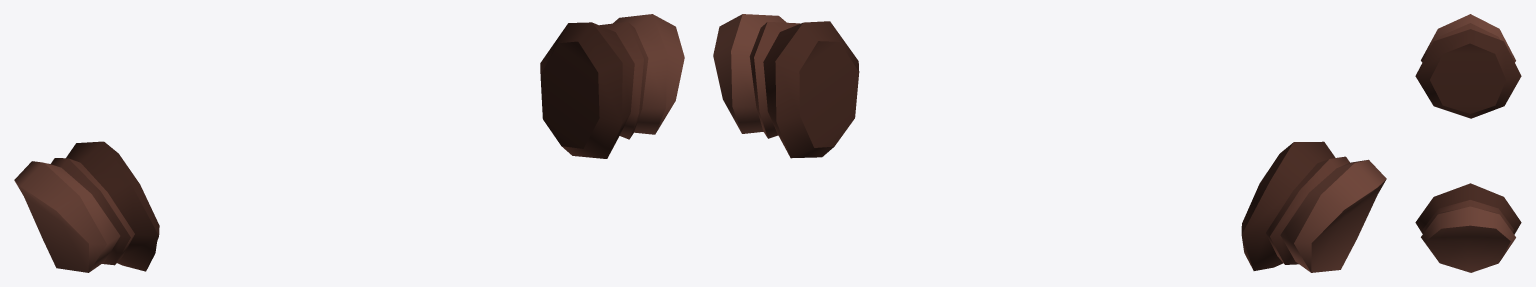
The model's file is Glove_33.fbx.
The picture shows the model from 3 angles, left to right: view 1: azimuth 30°, elevation 25°; view 2: azimuth 150°, elevation 25°; view 3: azimuth 270°, elevation 25°; orthographic projection. The views are drawn at different scales.
Visible parts, largest first — view 1: Glove_33; view 2: Glove_33; view 3: Glove_33.
Part boxes in pixels (<box>): Glove_33: <box>14,14,684,272</box>; Glove_33: <box>713,14,1386,272</box>; Glove_33: <box>1415,14,1521,272</box>.
Bounding box in the file's own units: 116 × 21.8 × 25.08.
